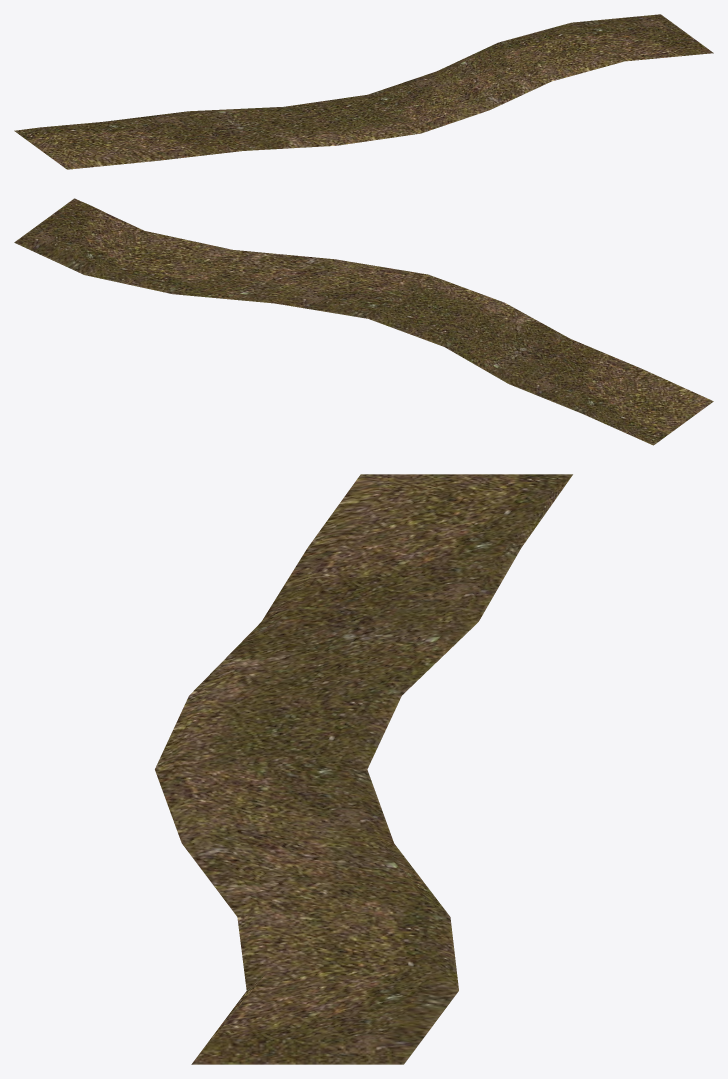
The model's file is dirt-path-art.glb.
3 renders of one model, top to bottom at view 1: azimuth 30°, elevation 25°; view 2: azimuth 150°, elevation 25°; view 3: azimuth 270°, elevation 25°, orthographic. The views are drawn at different scales.
Visible parts, largest first — view 1: Dirt_Path_Art; view 2: Dirt_Path_Art; view 3: Dirt_Path_Art.
Boxes of the visible parts, x1,y1,x2,y2 form: Dirt_Path_Art: [14, 14, 713, 169]; Dirt_Path_Art: [14, 198, 713, 445]; Dirt_Path_Art: [155, 474, 572, 1064].
Bounding box in the file's own units: 9.85 × 0.0325 × 2.95.
1 material, 1 textured.
